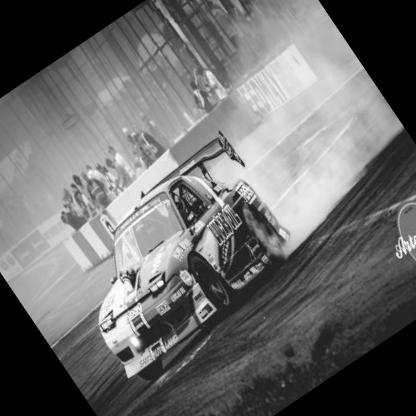car: (30, 120, 325, 400)
